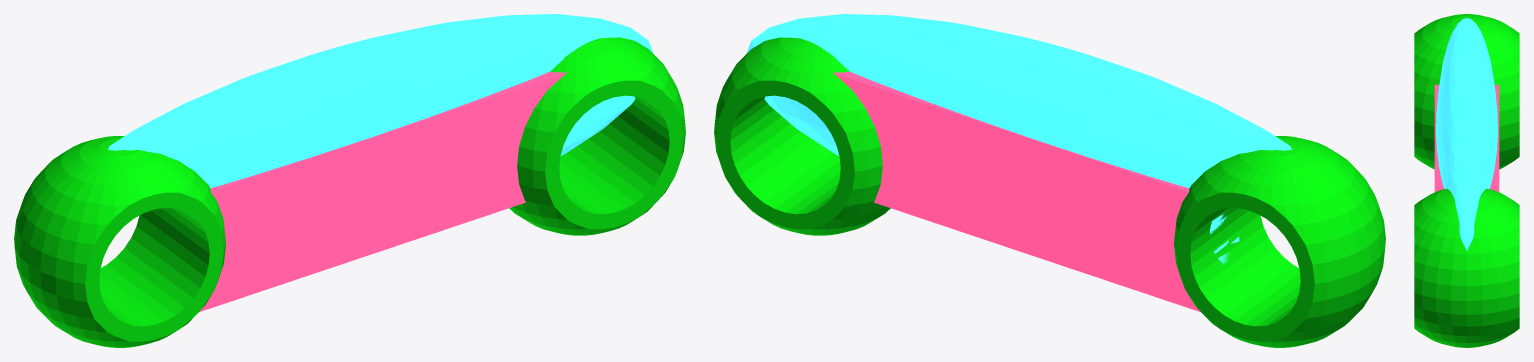
Rendered from lightcycle-test.glb.
3 renders of one model, left to right at view 1: azimuth 30°, elevation 25°; view 2: azimuth 150°, elevation 25°; view 3: azimuth 270°, elevation 25°, orthographic. The views are drawn at different scales.
Visible parts, largest first — view 1: cockpit, body, wheel front, wheel back; view 2: cockpit, body, wheel front, wheel back; view 3: wheel back, cockpit, wheel front, body.
Boxes of the visible parts, bbox=[...] form: cockpit: bbox=[107, 14, 653, 188]; body: bbox=[199, 71, 567, 311]; wheel front: bbox=[14, 136, 225, 347]; wheel back: bbox=[509, 37, 685, 235]; cockpit: bbox=[746, 14, 1292, 264]; body: bbox=[832, 71, 1200, 311]; wheel front: bbox=[1174, 136, 1385, 347]; wheel back: bbox=[714, 37, 890, 235]; wheel back: bbox=[1414, 188, 1519, 347]; cockpit: bbox=[1436, 18, 1497, 250]; wheel front: bbox=[1414, 14, 1519, 169]; body: bbox=[1434, 84, 1499, 191].
Bounding box in the file's own units: 7 × 2.45 × 1.3.
